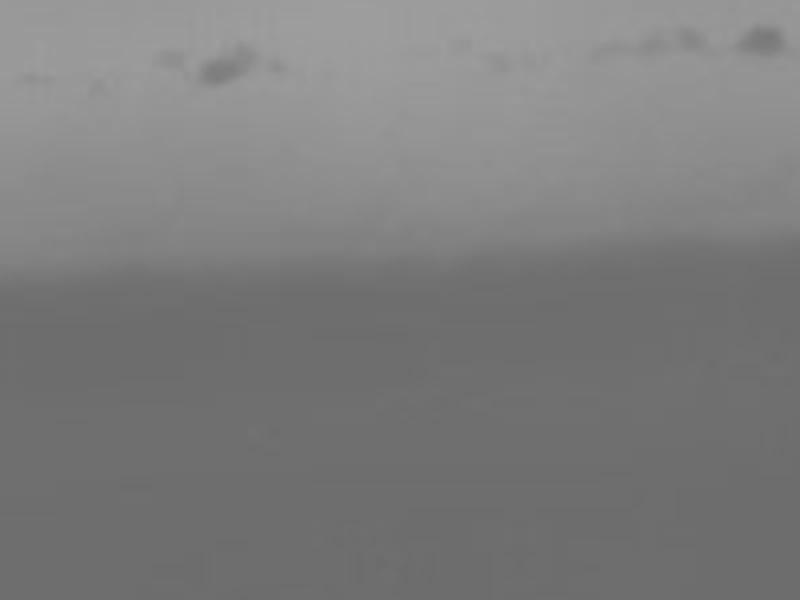defect: (195, 50, 242, 86), (732, 25, 780, 51), (151, 43, 187, 70), (636, 24, 665, 54), (482, 47, 510, 75), (675, 24, 705, 49), (263, 55, 289, 78)
